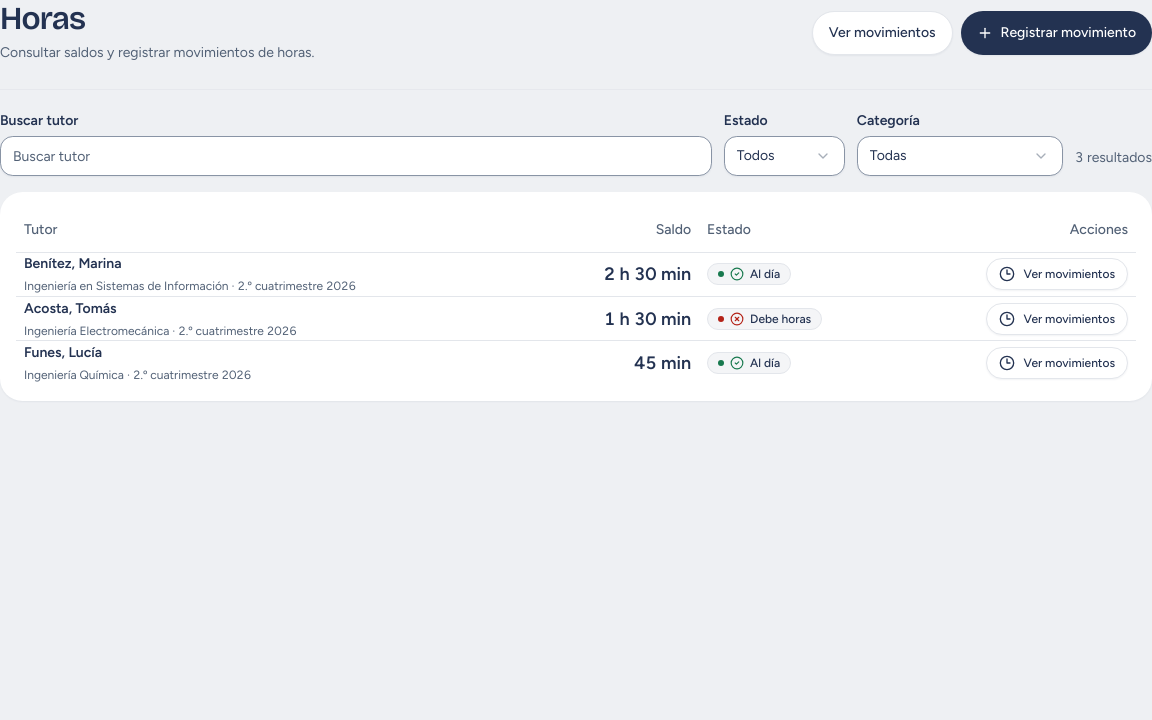
Test case: HoursScreen › keeps the movement draft after dismissal and guards reloads while the dialog has edits
Click the button "Registrar movimiento" at [1056, 33], box [960,11,1151,55]
(page scrolled)
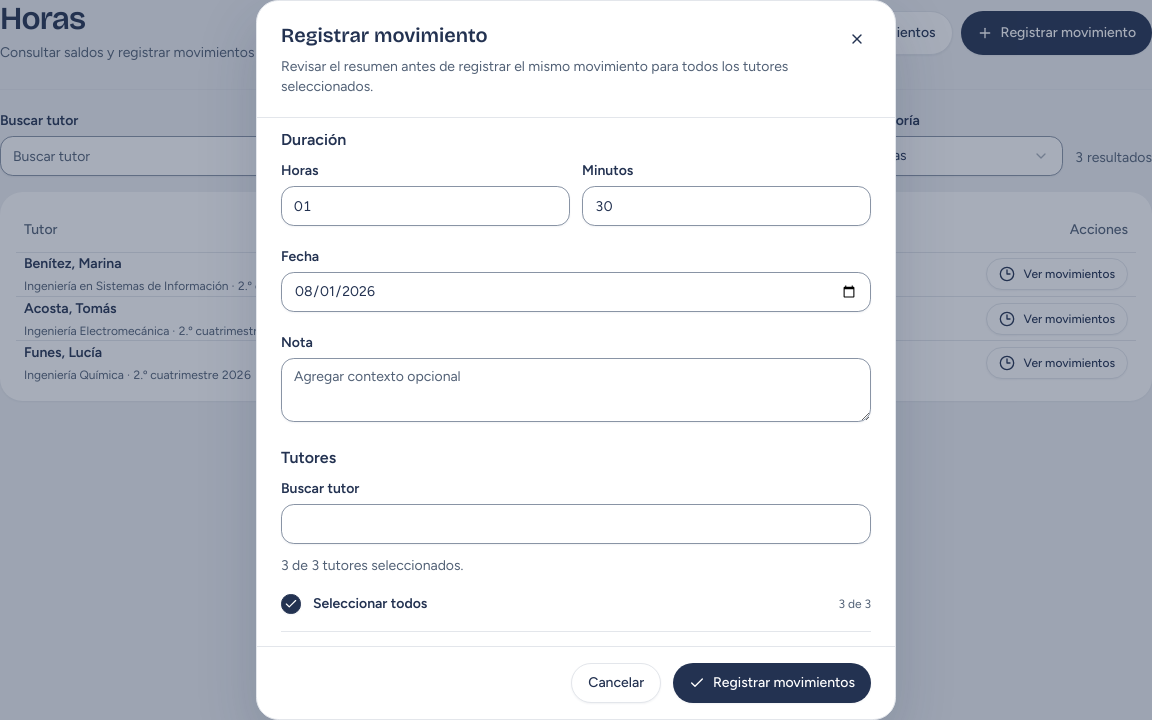
Type "Reunión de cierre" into the text box labelled "Nota" at [576, 390], box [281,358,871,422]
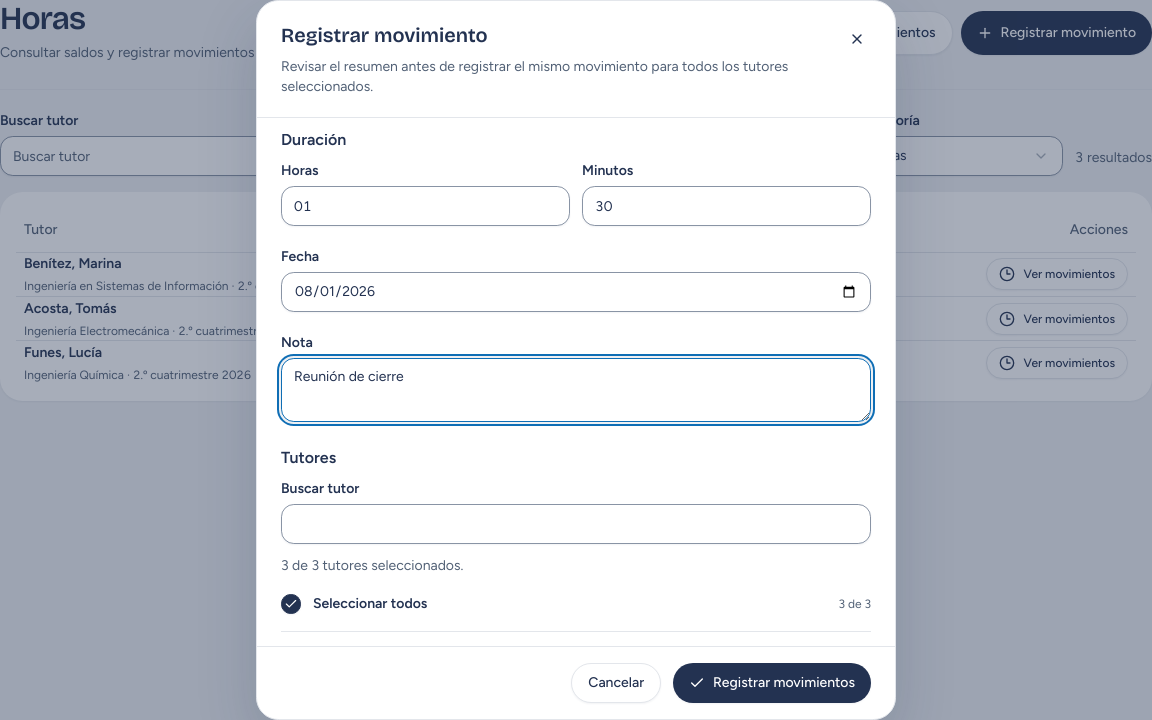
Click the button "Cancelar" at [616, 683], box [571,663,661,703]
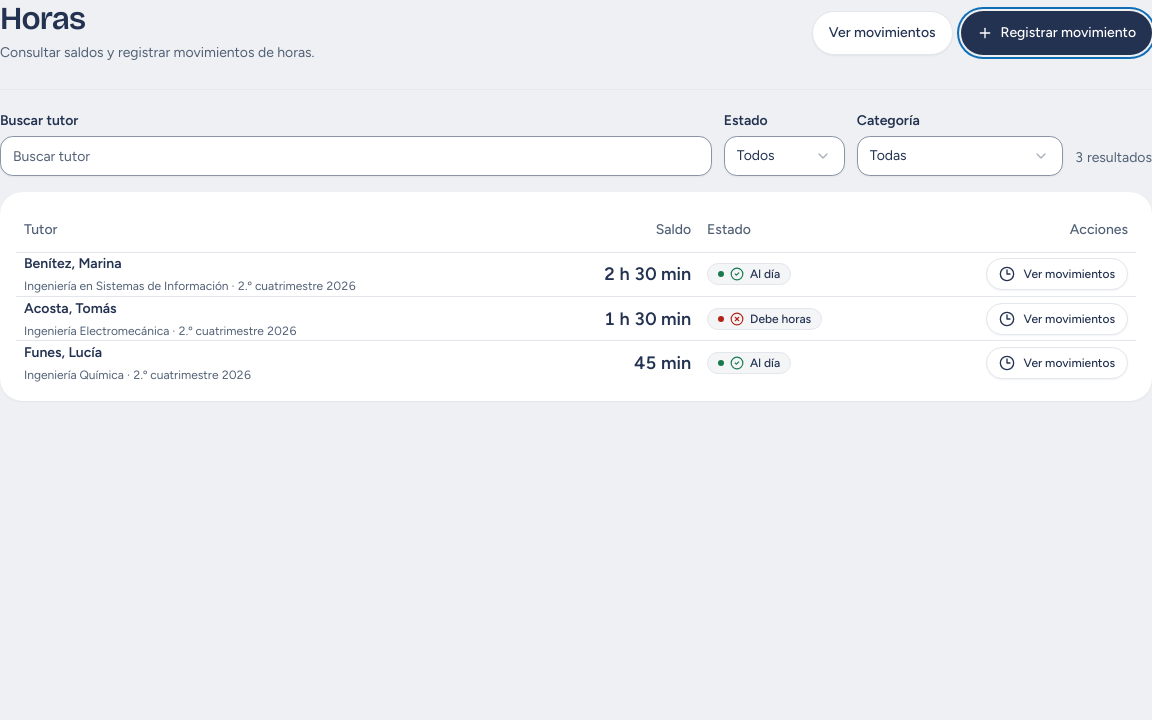
Click the button "Registrar movimiento" at [1056, 33], box [960,11,1151,55]
(page scrolled)
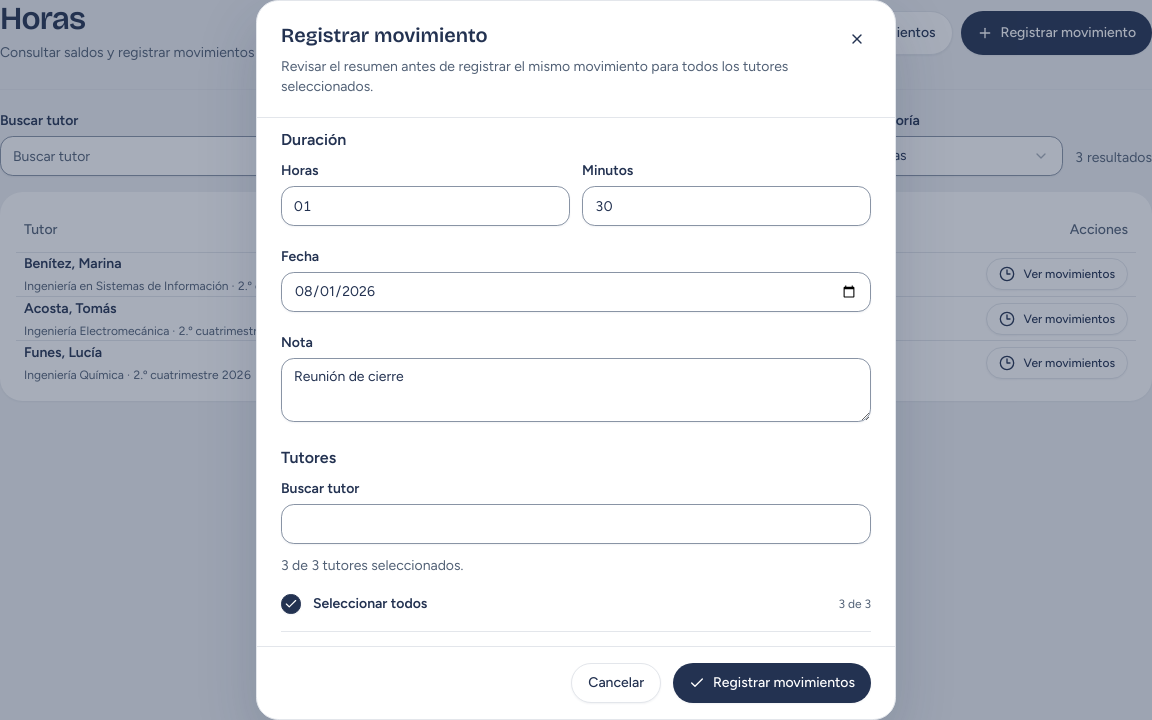
Result: the text box labelled "Nota" holds "Reunión de cierre" at [281,358,871,422]
